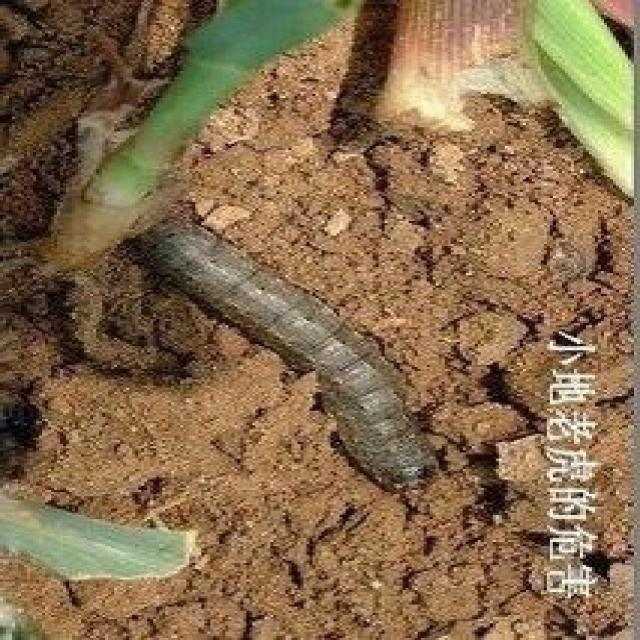black cutworm: (144, 213, 465, 498)
